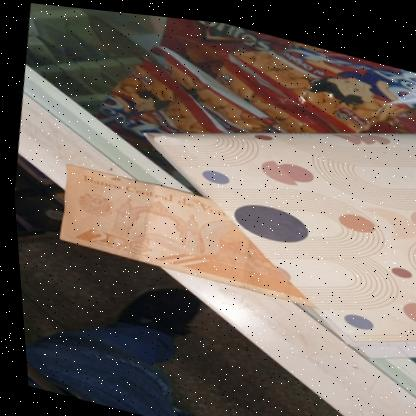twenty-back-vef: (50, 158, 324, 302)
